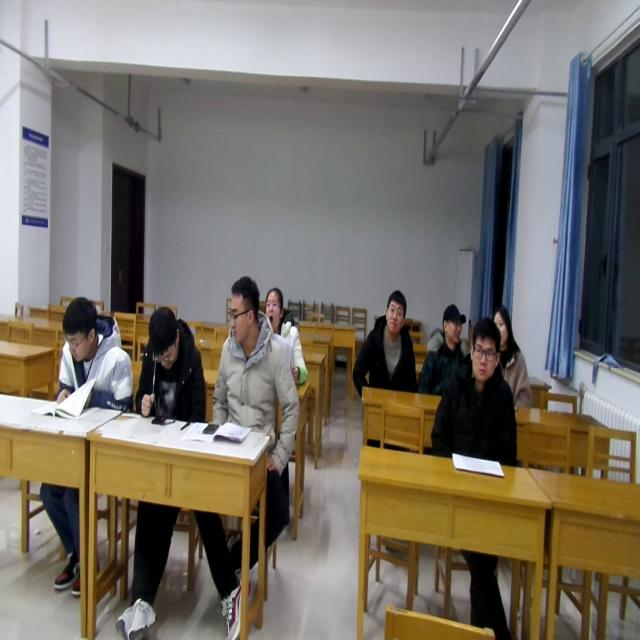down: (58, 289, 98, 365), (146, 304, 180, 372)
lookup: (468, 316, 501, 384), (382, 284, 408, 336), (264, 279, 288, 331), (492, 302, 516, 349)
sit: (209, 276, 300, 435), (431, 314, 519, 466), (53, 293, 135, 414), (135, 305, 206, 423), (350, 289, 418, 392), (417, 302, 472, 396), (488, 302, 534, 408), (263, 286, 309, 385)
